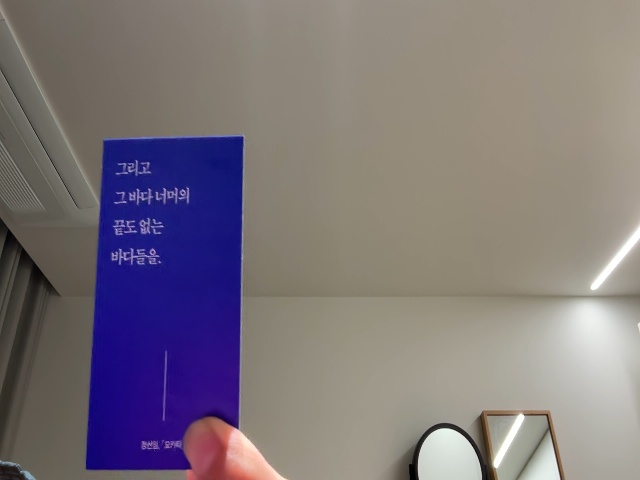card: (85, 139, 245, 468)
